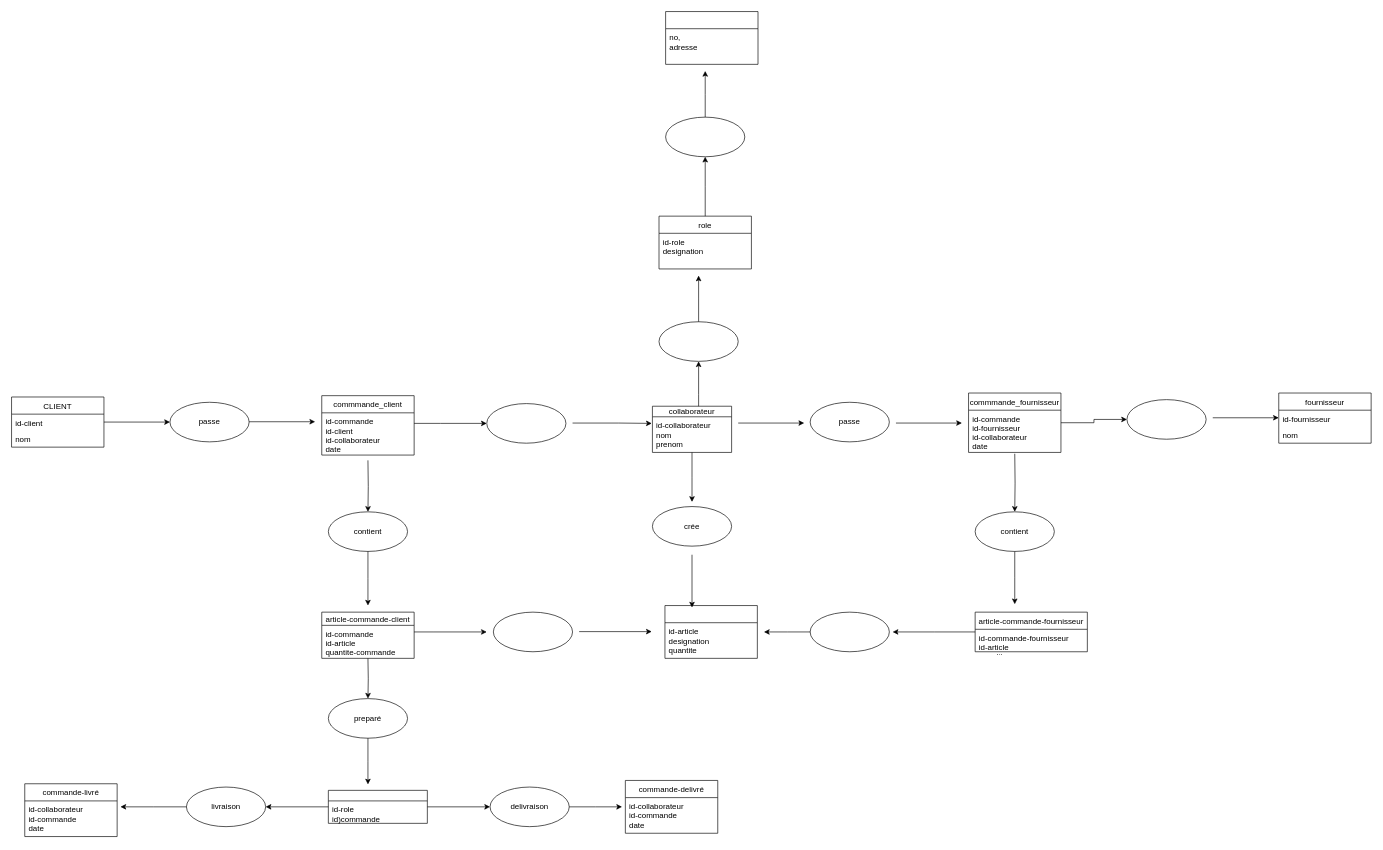
This 1383x850 diagram has some shape labels left out. The shapes that lost their labels are listed below. From the top down, each one's box as (x1, y1, x2, y2) in pixels, then its label:
(665, 11, 758, 64): entrepot
(665, 116, 745, 157): travaille
(658, 321, 738, 361): etre
(486, 403, 566, 443): enregistré
(1126, 399, 1206, 439): chez
(493, 611, 573, 652): soustrait
(664, 605, 757, 658): article-stocke
(809, 611, 889, 652): accredite
(328, 790, 427, 823): commande-client-preparé
